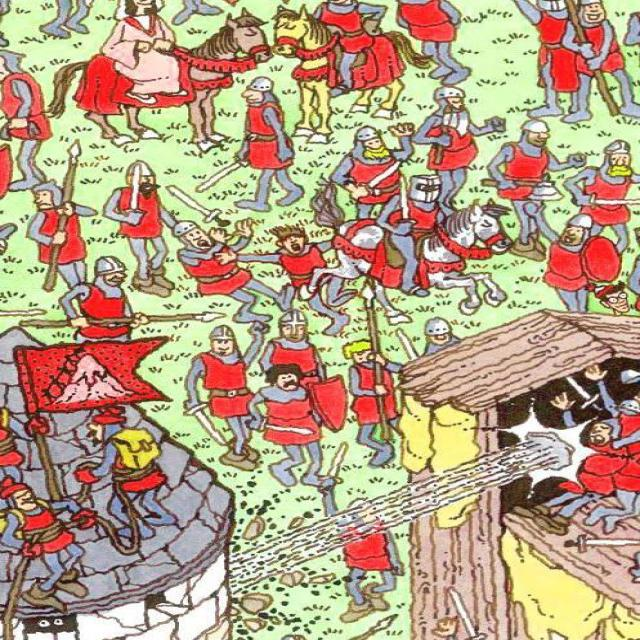waldo: (585, 279, 631, 314)
